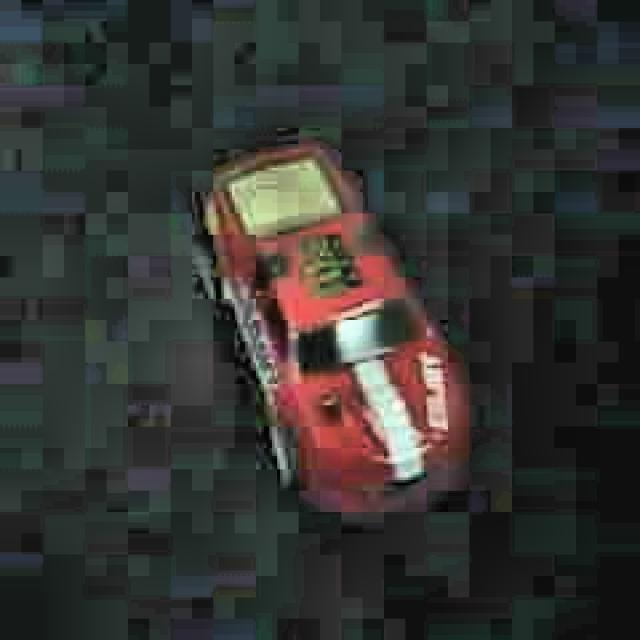car: (187, 136, 483, 539)
